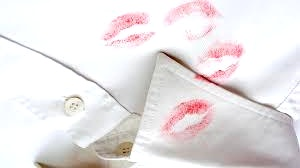lipstick: (162, 94, 212, 144), (100, 2, 153, 40), (162, 0, 214, 31), (202, 37, 251, 66), (191, 61, 242, 86), (107, 30, 154, 54), (181, 25, 210, 44)
